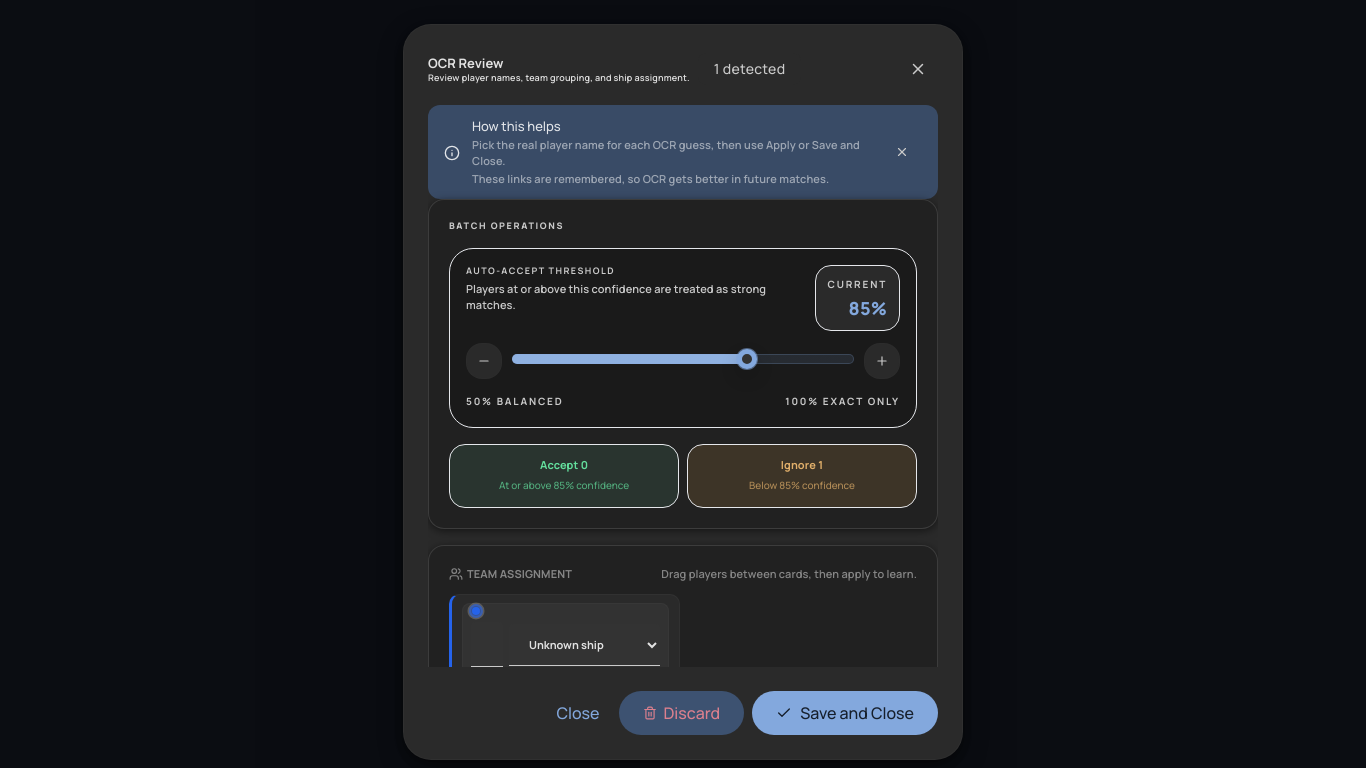
Test: OcrCorrectionModal › dismisses the help banner and persists dismissal in localStorage
This screenshot has width=1366, height=768.
Check: the text "How this helps" is shown, box [472,117,561,135]
Click the button named "dismiss help banner" at (902, 152), box [882,132,922,172]
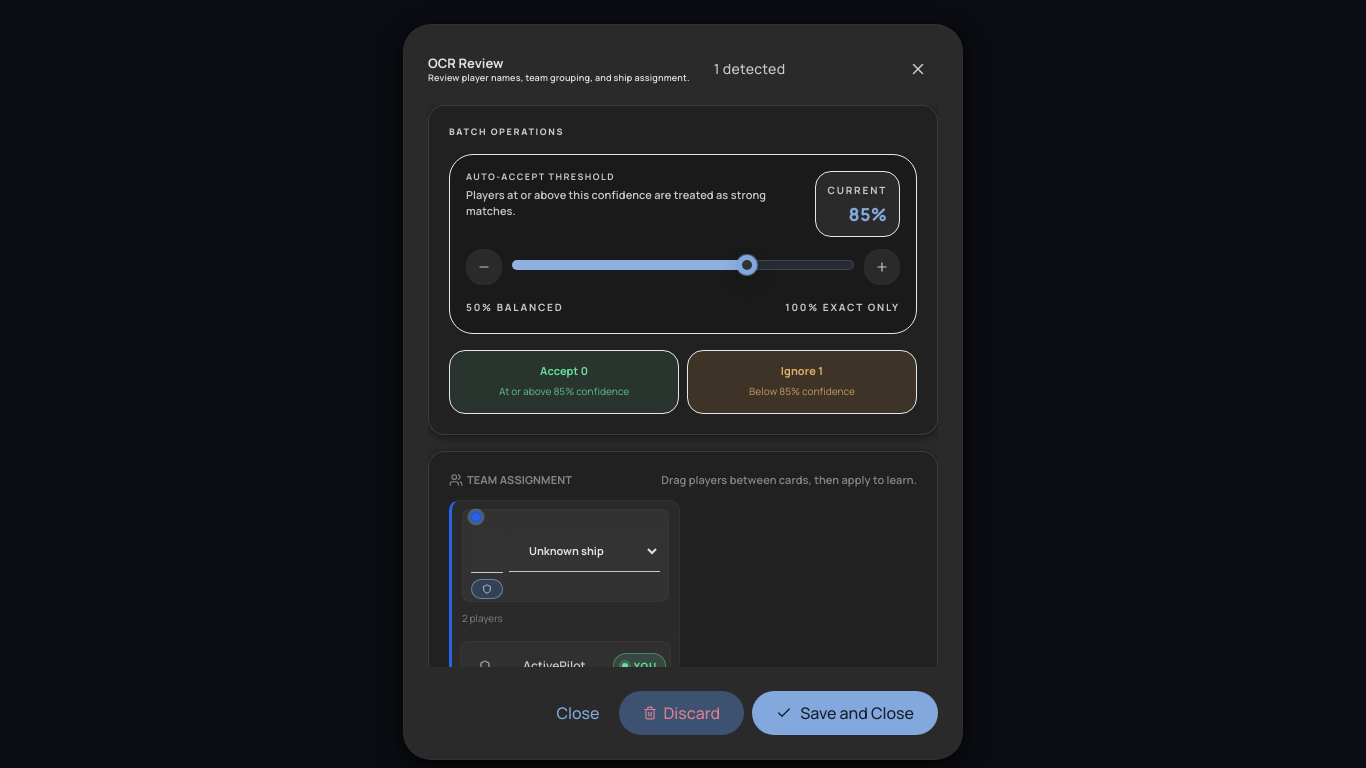
Check: the text "How this helps" is gone
